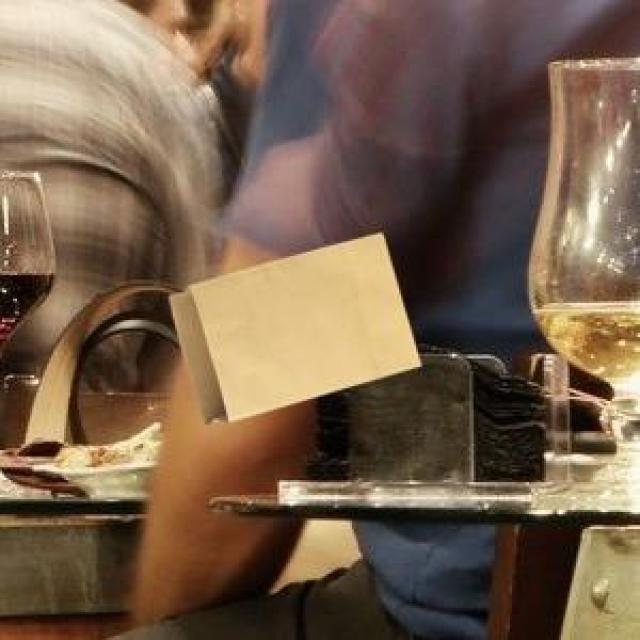paper: (166, 228, 416, 420)
